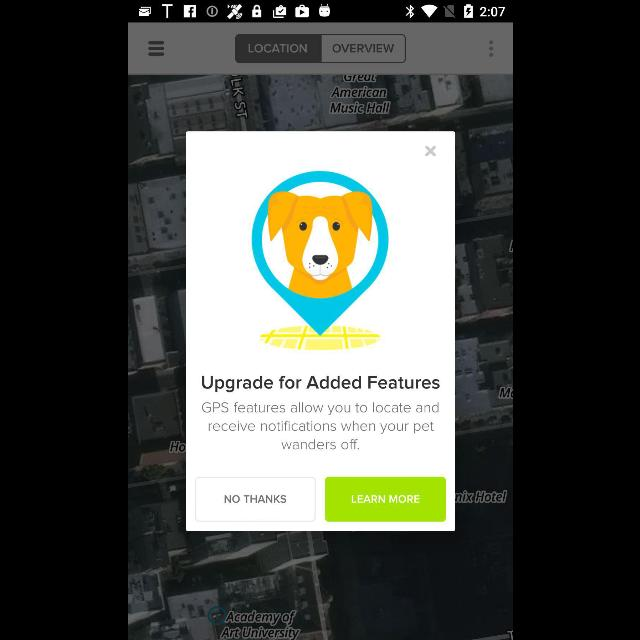icon: (148, 42, 164, 56), (424, 146, 436, 156), (488, 41, 492, 58)
image: (251, 171, 389, 353)
panel: (186, 132, 454, 530)
text: (202, 402, 438, 450), (201, 376, 439, 392)
textbutton: (325, 476, 445, 522), (195, 476, 315, 522), (234, 34, 320, 64), (321, 34, 405, 64)
uppertaskbar: (128, 1, 512, 23)
